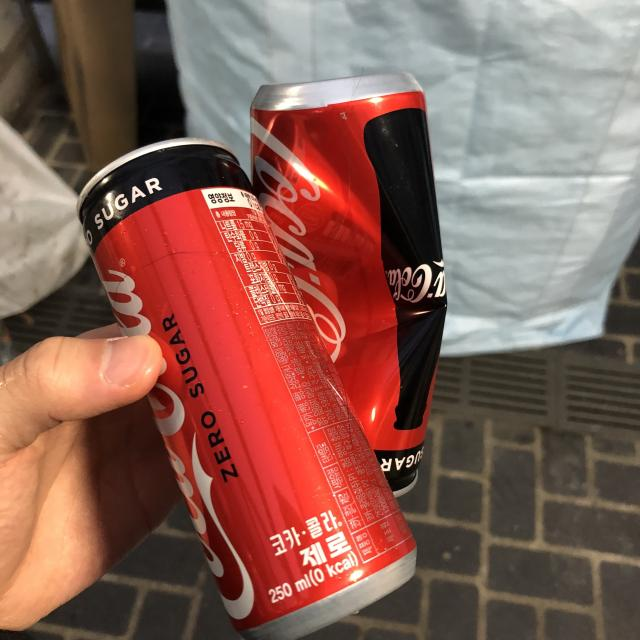Metal: (61, 116, 447, 640), (233, 47, 463, 516)
